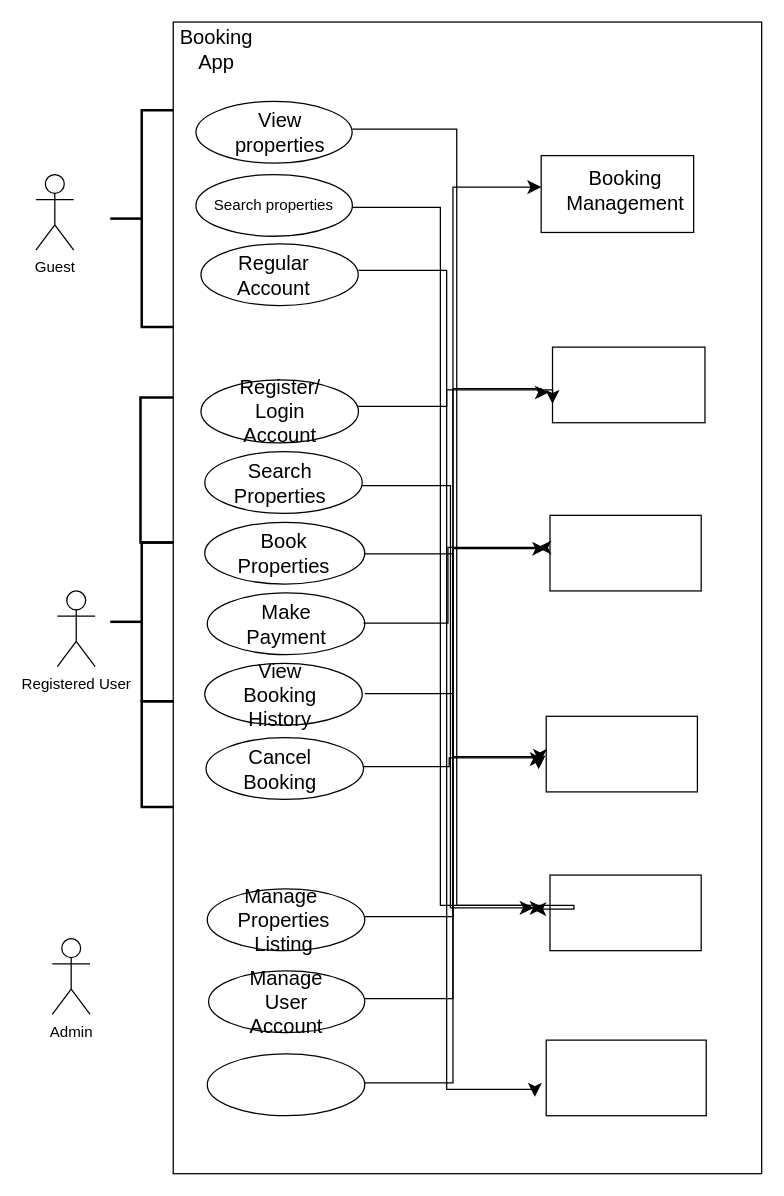
The diagram is 784 pixels wide and 1196 high, and some of its shapes have lost their labels. Each missing label, with the centre of its shape:
Booking System: the point at 621,753
Monitor Booking: the point at 285,1084
Payment Management: the point at 625,552
Property Search: the point at 625,912
User Aunthetication: the point at 628,384
User Registration: the point at 625,1077
